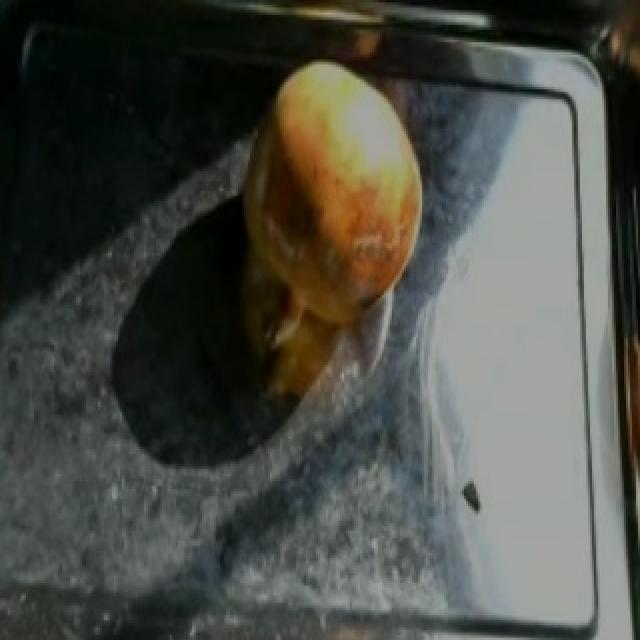fruit: (220, 47, 438, 342)
